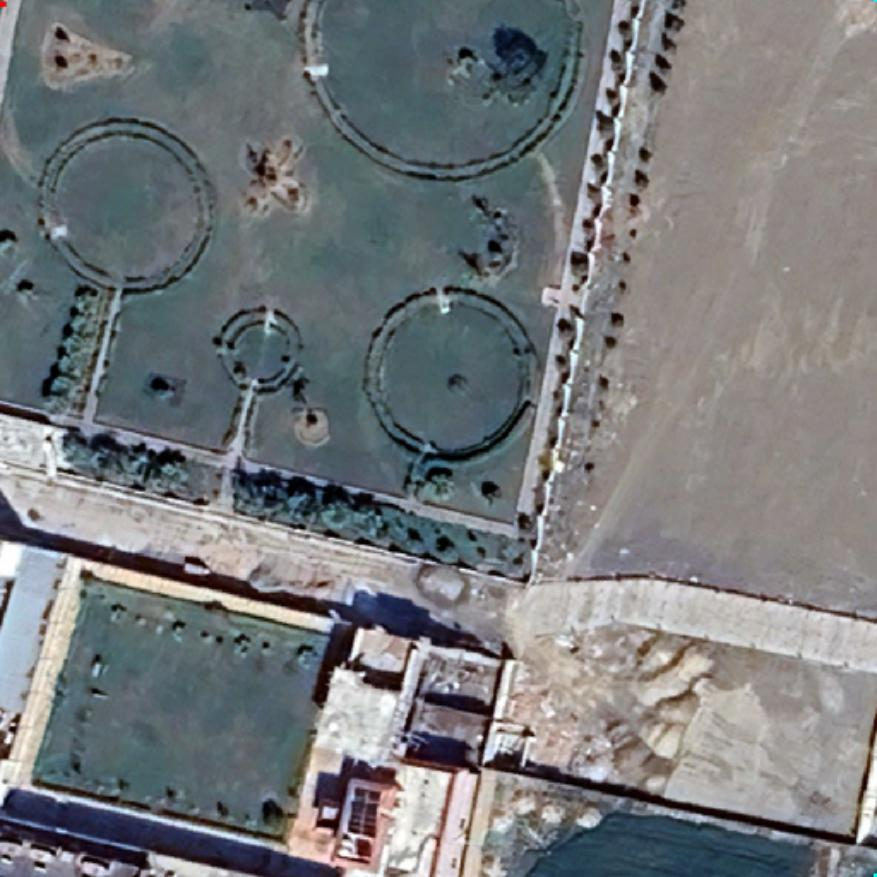Solarpanel: (344, 782, 384, 842)
